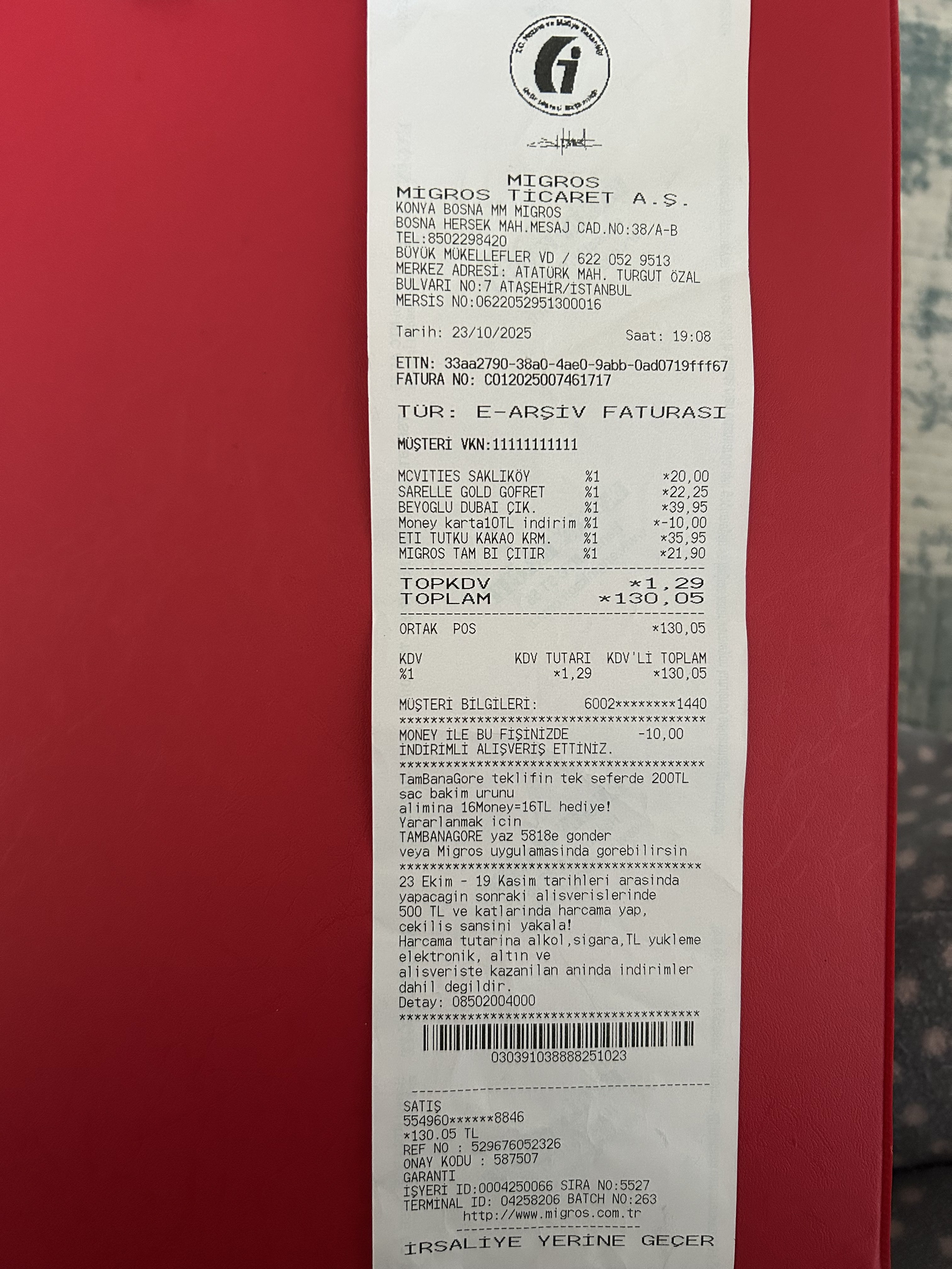date: (447, 322, 538, 346), (612, 590, 708, 607)
workplace: (386, 167, 705, 236)
